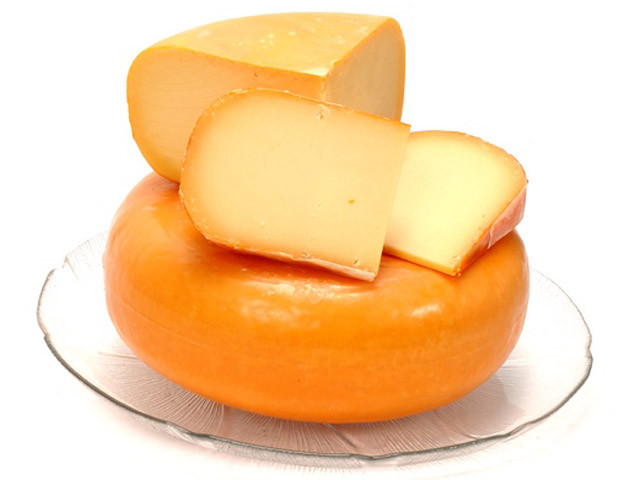cheese: (105, 166, 534, 412), (125, 1, 478, 221), (174, 67, 406, 290), (379, 77, 557, 255)
